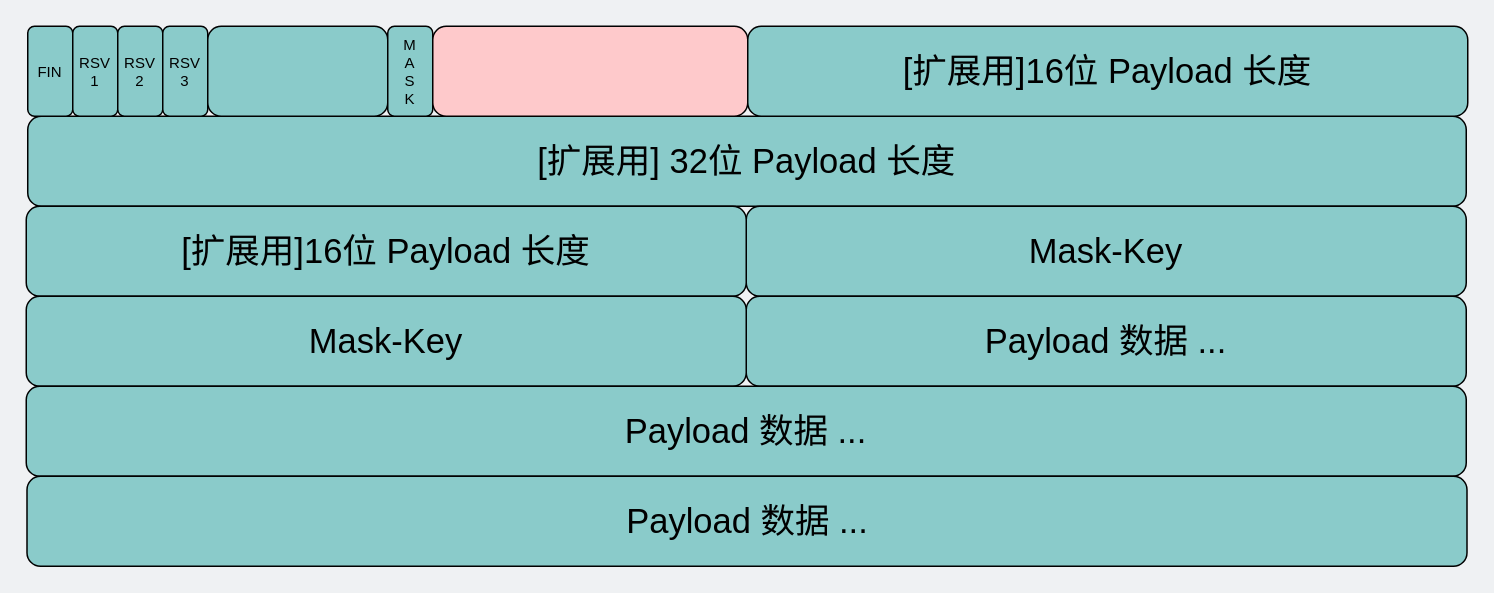
This 1494x593 diagram has some shape labels left out. The box of each missing label's shape, as (x1, y1, x2, y2) in pixels:
0~125 payload长度: (431, 25, 748, 116)
4位 opcode: (206, 25, 388, 116)
